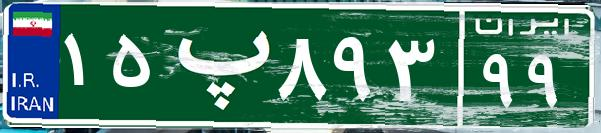1: (57, 26, 110, 107)
3: (385, 28, 445, 110)
5: (110, 28, 158, 105)
8: (273, 28, 330, 110)
9: (330, 28, 385, 110), (475, 38, 525, 113), (525, 38, 570, 115)
پ: (158, 15, 273, 115)
